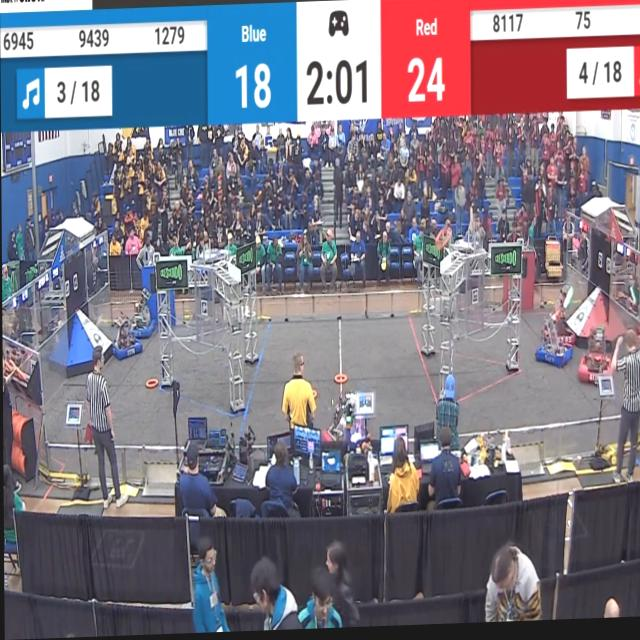Robot: (324, 388, 373, 457), (535, 303, 575, 376), (540, 282, 577, 353), (575, 327, 614, 394), (111, 306, 141, 363), (129, 289, 155, 341)
